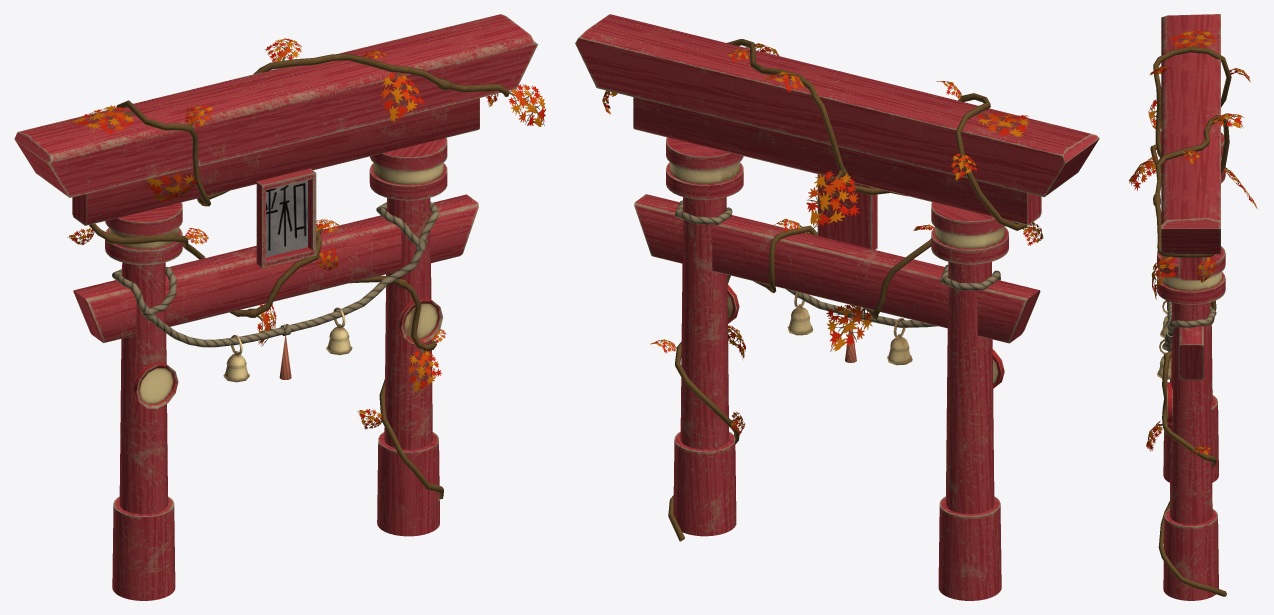
The model's file is japanese_torii_gate.glb.
3 renders of one model, left to right at view 1: azimuth 30°, elevation 25°; view 2: azimuth 150°, elevation 25°; view 3: azimuth 270°, elevation 25°, orthographic. The views are drawn at different scales.
Parts seen in each view (by area): view 1: Torri_Gate, Leaves; view 2: Torri_Gate, Leaves; view 3: Torri_Gate, Leaves.
Boxes of the visible parts, x1=… form: Torri_Gate: x1=14, y1=14, x2=537, y2=600; Leaves: x1=67, y1=38, x2=545, y2=429; Torri_Gate: x1=575, y1=14, x2=1099, y2=600; Leaves: x1=602, y1=43, x2=1043, y2=435; Torri_Gate: x1=1150, y1=14, x2=1231, y2=600; Leaves: x1=1129, y1=30, x2=1257, y2=454.
Size of the model in its own units: 13.51 by 12.77 by 3.5.
3 materials, 3 textured.
